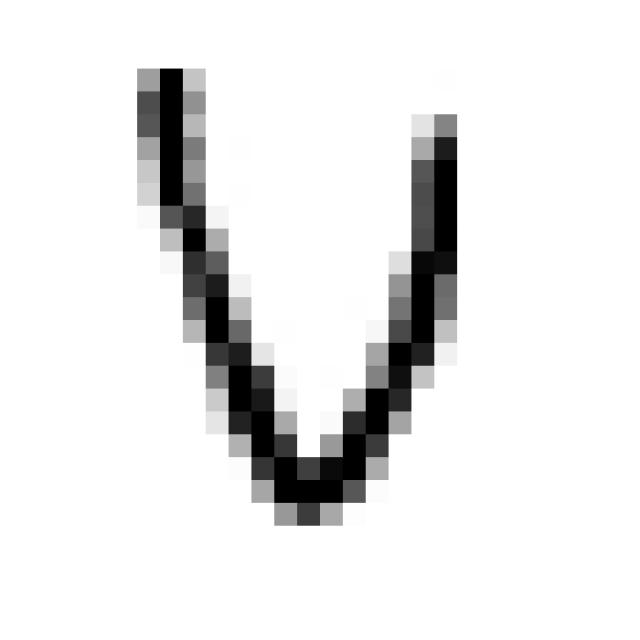7 -seven-: (124, 41, 478, 541)
